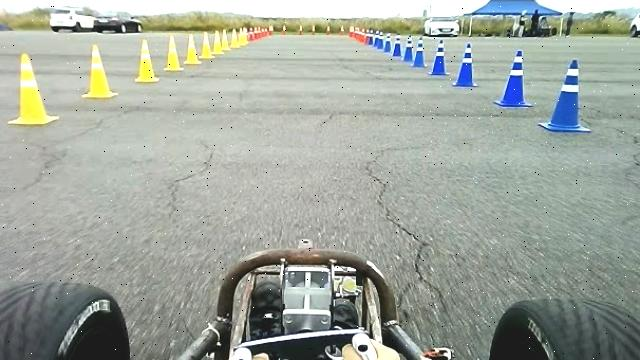blue cone: (538, 58, 591, 132), (491, 48, 530, 107), (452, 42, 478, 87), (429, 39, 451, 75), (411, 36, 428, 68)
yellow cone: (9, 52, 60, 124), (82, 43, 118, 99), (135, 38, 161, 82), (162, 34, 182, 70), (185, 33, 203, 63)
